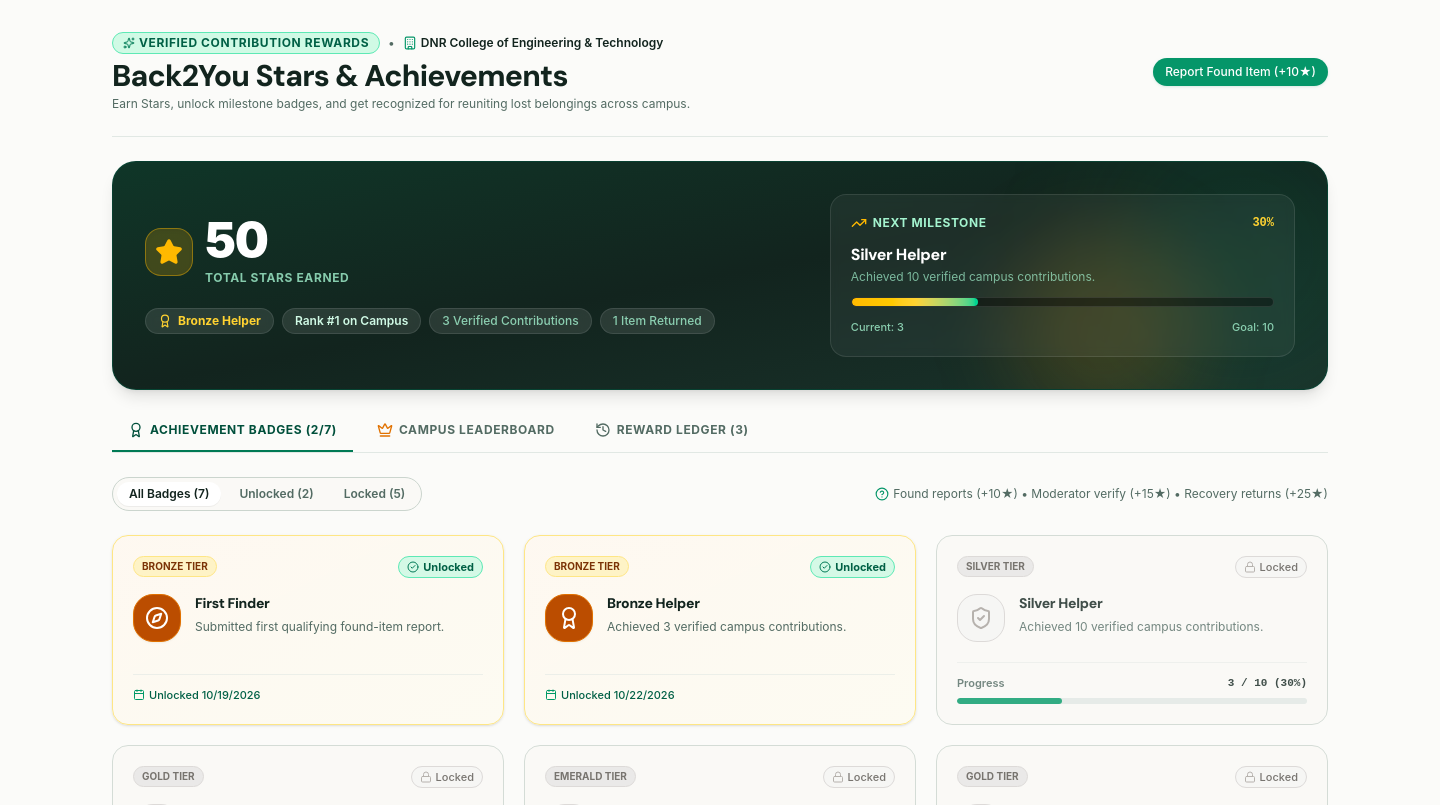
Test: Back2You Stars — Rewards Dashboard UI › allows switching to Reward Ledger tab to inspect transactions
The image size is (1440, 805).
Click the button "Reward Ledger (3)" at (672, 436), box [579, 422, 765, 452]
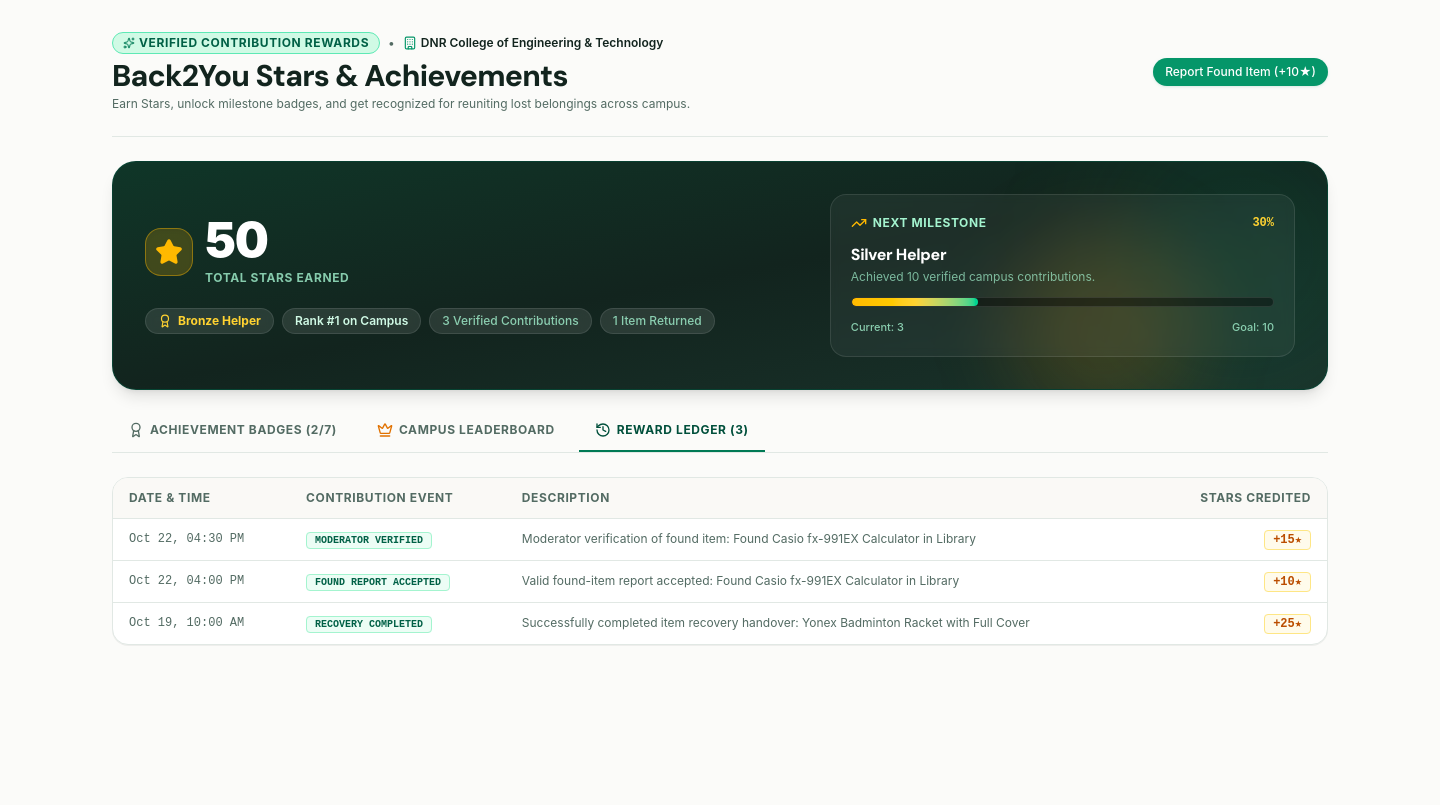
Expected: the column heading "Date & Time" is shown, [113, 478, 290, 518]
Expected: the column heading "Contribution Event" is shown, [290, 478, 506, 518]
Expected: the column heading "Stars Credited" is shown, [1155, 478, 1327, 518]
